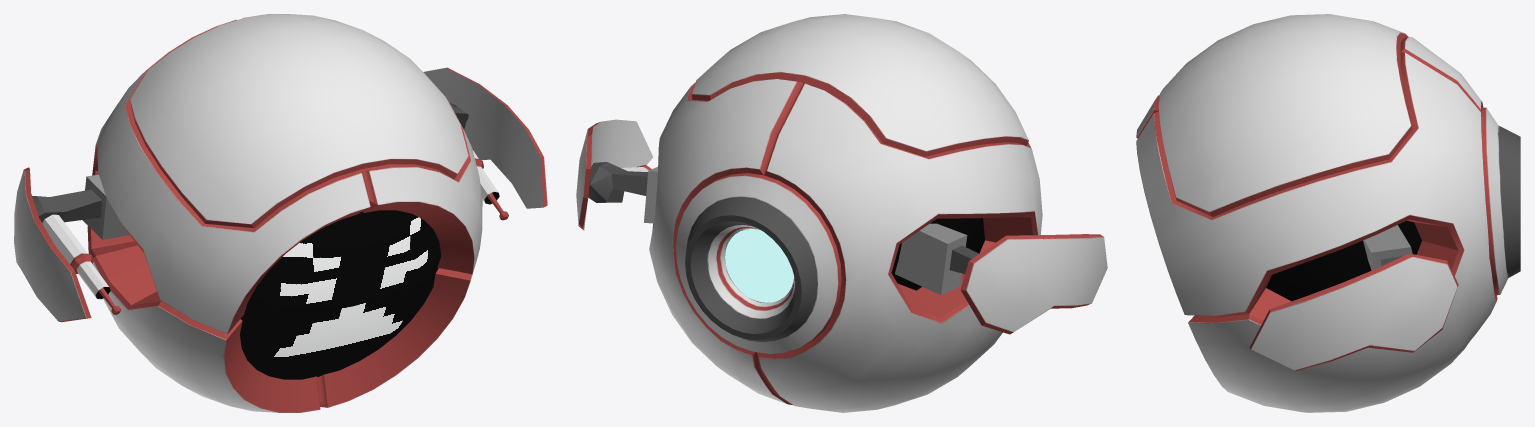
3 renders of one model, left to right at view 1: azimuth 30°, elevation 25°; view 2: azimuth 150°, elevation 25°; view 3: azimuth 270°, elevation 25°, orthographic.
Visible parts, largest first — view 1: Drone_Body, Drone_light, Screen, Drone_Guns; view 2: Drone_Body, Drone_light, Drone_Guns; view 3: Drone_Body, Drone_light, Drone_Guns.
Part boxes in pixels (x1=…): Drone_Body: x1=87, y1=14, x2=482, y2=412; Drone_light: x1=130, y1=14, x2=468, y2=227; Screen: x1=240, y1=210, x2=441, y2=379; Drone_Guns: x1=14, y1=67, x2=547, y2=322; Drone_Body: x1=649, y1=79, x2=1042, y2=412; Drone_light: x1=692, y1=14, x2=1028, y2=156; Drone_Guns: x1=576, y1=119, x2=1107, y2=334; Drone_Body: x1=1136, y1=36, x2=1520, y2=412; Drone_light: x1=1158, y1=14, x2=1413, y2=216; Drone_Guns: x1=1249, y1=225, x2=1458, y2=370.
Bounding box in the file's own units: 2.8 × 2 × 1.92.
Materials: 4 (2 with a texture image).
